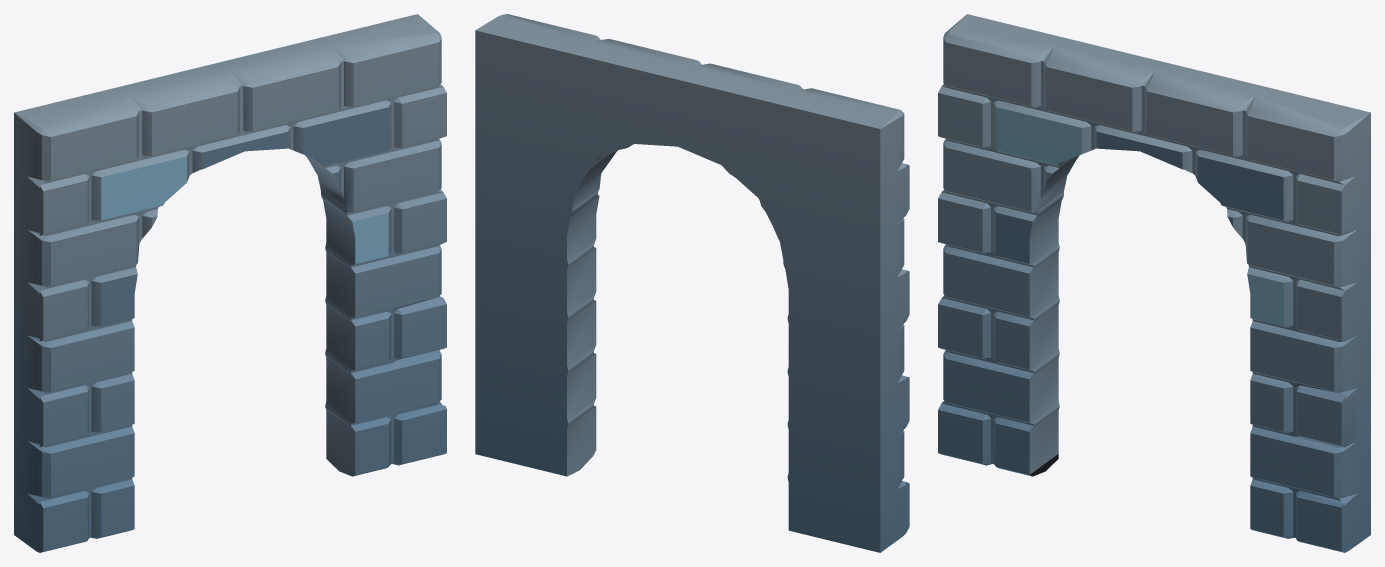
Rendered from Wall_Tile_Archway_01.glb.
3 views of the same model, side by side, from view 1: azimuth 30°, elevation 25°; view 2: azimuth 150°, elevation 25°; view 3: azimuth 330°, elevation 25° (orthographic).
Parts seen in each view (by area): view 1: Wall_Tile_Archway_01; view 2: Wall_Tile_Archway_01; view 3: Wall_Tile_Archway_01.
Boxes of the visible parts, box(x1,y1,x2,y2) form: Wall_Tile_Archway_01: box(14, 14, 446, 552); Wall_Tile_Archway_01: box(475, 14, 909, 552); Wall_Tile_Archway_01: box(938, 14, 1370, 552).
Bounding box in the file's own units: 4.04 × 4.06 × 0.5003.
Materials: 1 (1 with a texture image).
